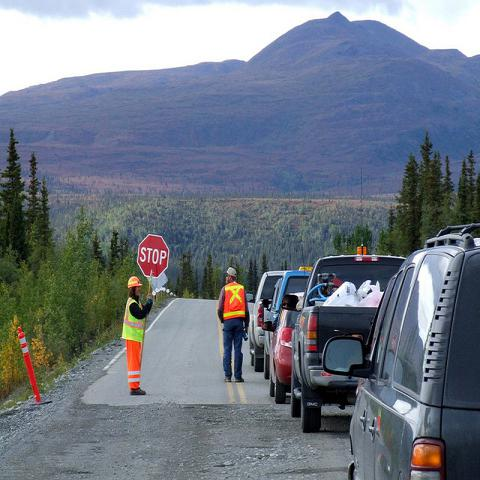car: (323, 222, 479, 472), (264, 268, 313, 378), (268, 289, 304, 406)
truck: (290, 246, 407, 434), (249, 271, 287, 373)
